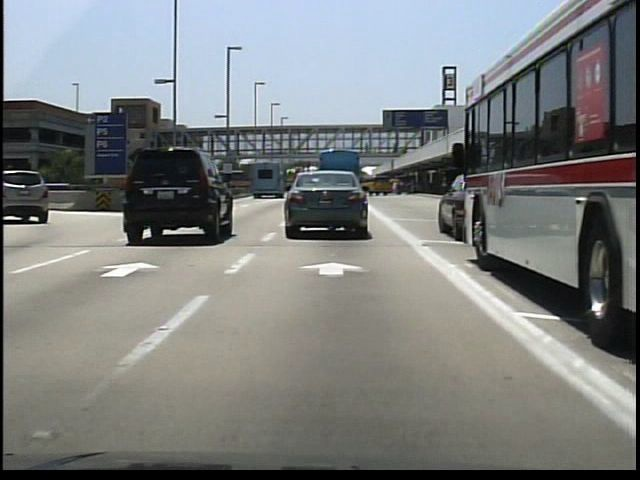person: (389, 177, 403, 199), (389, 136, 402, 158), (359, 136, 373, 156)
